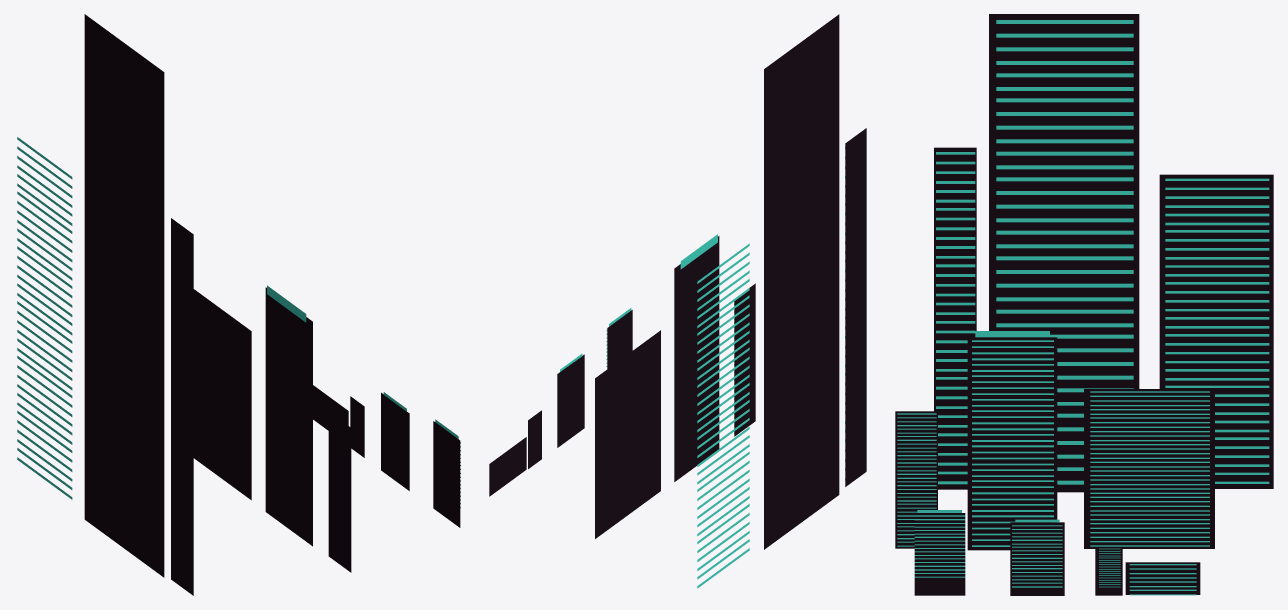
The model's file is backgroundskyscraper.fbx.
The picture shows the model from 3 angles, left to right: view 1: azimuth 30°, elevation 25°; view 2: azimuth 150°, elevation 25°; view 3: azimuth 270°, elevation 25°; orthographic projection. The views are drawn at different scales.
Visible parts, largest first — view 1: Plane.015, Plane.011, Plane.010, Plane.013, Plane.014, Plane.012, Plane.003, Plane, Plane.002, Plane.001; view 2: Plane.015, Plane.010, Plane.011, Plane.013, Plane.014, Plane.012, Plane, Plane.002, Plane.003, Plane.001; view 3: Plane.015, Plane.014, Plane.010, Plane.011, Plane.013, Plane.012, Plane.003, Plane, Plane.002, Plane.004, Plane.022, Plane.001 (+3 smaller).
Boxes of the visible parts, <box> form: Plane.015: <box>84,14,164,577</box>; Plane.011: <box>265,287,312,546</box>; Plane.010: <box>193,289,251,500</box>; Plane.013: <box>171,218,193,595</box>; Plane.014: <box>17,137,72,499</box>; Plane.012: <box>328,411,351,572</box>; Plane.003: <box>433,421,460,527</box>; Plane: <box>381,392,409,490</box>; Plane.002: <box>313,385,348,430</box>; Plane.001: <box>350,396,364,457</box>; Plane.015: <box>764,14,839,549</box>; Plane.010: <box>595,330,660,538</box>; Plane.011: <box>674,236,719,481</box>; Plane.013: <box>845,128,866,486</box>; Plane.014: <box>697,243,749,588</box>; Plane.012: <box>734,283,755,436</box>; Plane: <box>557,354,584,447</box>; Plane.002: <box>489,437,526,496</box>; Plane.003: <box>607,310,632,368</box>; Plane.001: <box>528,410,541,468</box>; Plane.015: <box>989,14,1139,492</box>; Plane.014: <box>1159,174,1273,488</box>; Plane.010: <box>1084,389,1214,548</box>; Plane.011: <box>967,337,1057,550</box>; Plane.013: <box>934,147,976,489</box>; Plane.012: <box>895,411,937,548</box>; Plane.003: <box>914,513,965,595</box>; Plane: <box>1010,522,1064,595</box>; Plane.002: <box>1125,562,1200,594</box>; Plane.004: <box>1012,525,1062,587</box>; Plane.022: <box>914,515,965,577</box>; Plane.001: <box>1095,547,1122,595</box>.
Bounding box in the file's own units: 2032 × 3813 × 2734.
